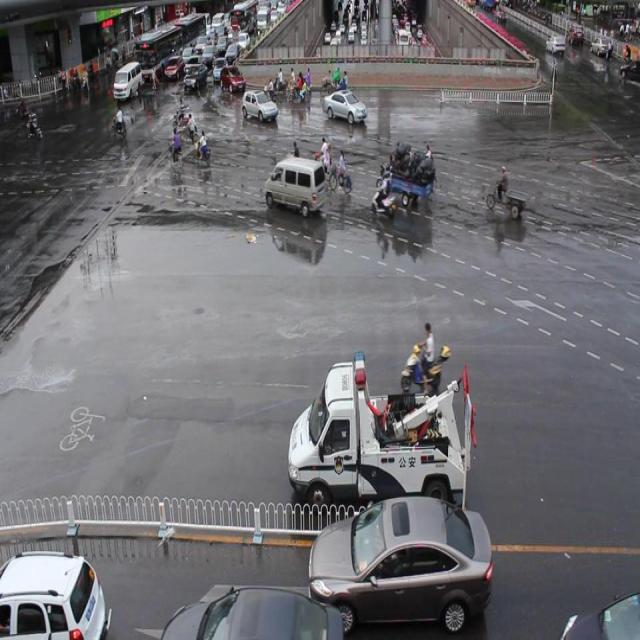bus: (287, 352, 473, 518)
car: (307, 498, 491, 628), (165, 582, 346, 640), (0, 548, 107, 640), (560, 591, 640, 640), (322, 90, 367, 126), (242, 90, 278, 123)
truck: (262, 156, 326, 214)
